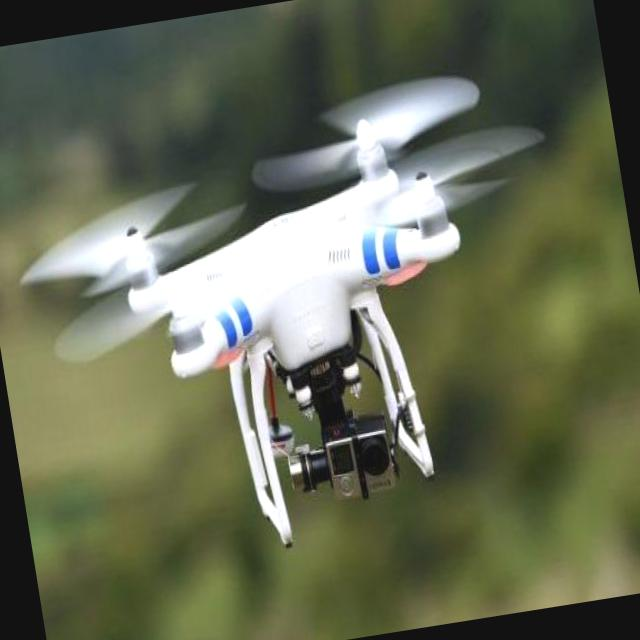drone: (23, 61, 602, 581)
